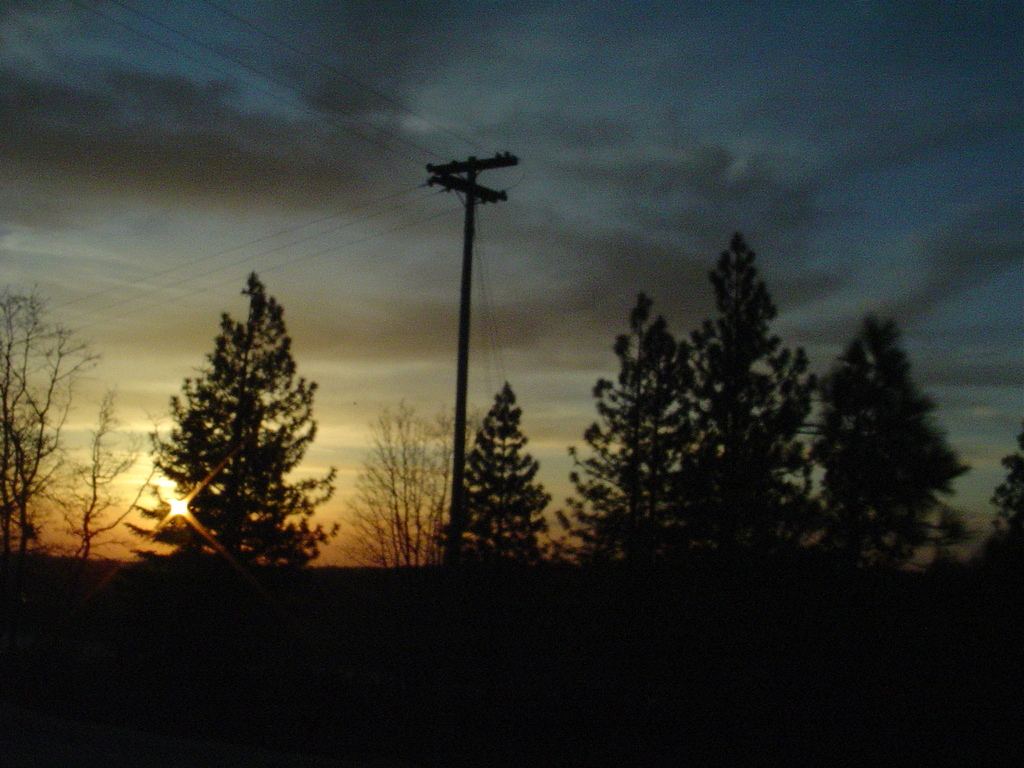Tree: (117, 269, 352, 618), (661, 238, 833, 578), (536, 290, 717, 593), (0, 288, 165, 618), (809, 309, 972, 606), (433, 378, 558, 591), (345, 399, 480, 584), (986, 440, 1023, 549)
